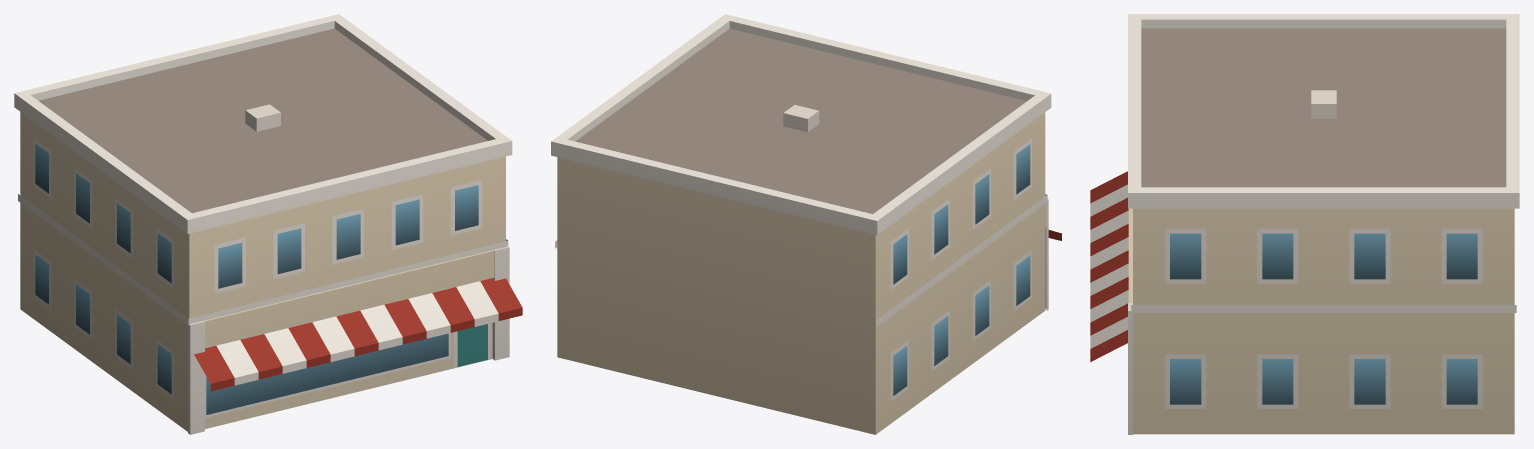
Rendered from vee_right1_far.glb.
The picture shows the model from 3 angles, left to right: view 1: azimuth 30°, elevation 25°; view 2: azimuth 150°, elevation 25°; view 3: azimuth 270°, elevation 25°; orthographic projection. The views are drawn at different scales.
Visible parts, largest first — view 1: vee_right1_far; view 2: vee_right1_far; view 3: vee_right1_far.
Part boxes in pixels (box(x1,y1,x2,y2)): vee_right1_far: box(14, 14, 522, 434); vee_right1_far: box(551, 14, 1061, 434); vee_right1_far: box(1090, 14, 1519, 434).
Bounding box in the file's own units: 13.32 × 8.67 × 13.51.
1 material, 1 textured.
